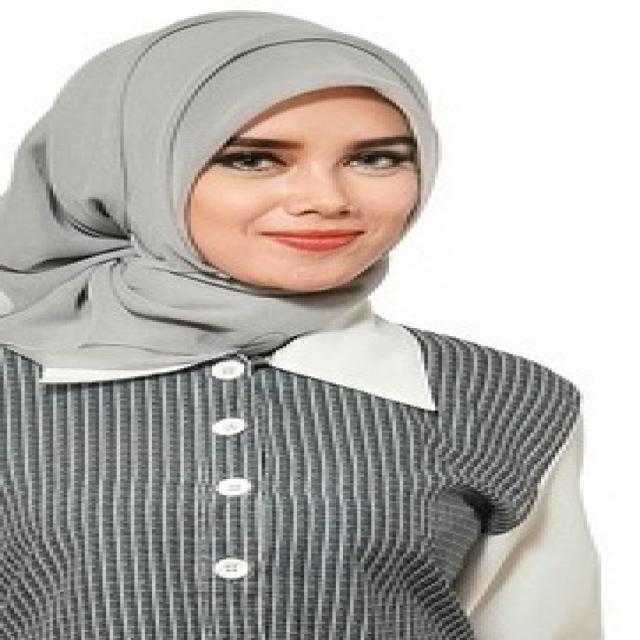head: (87, 41, 461, 301)
